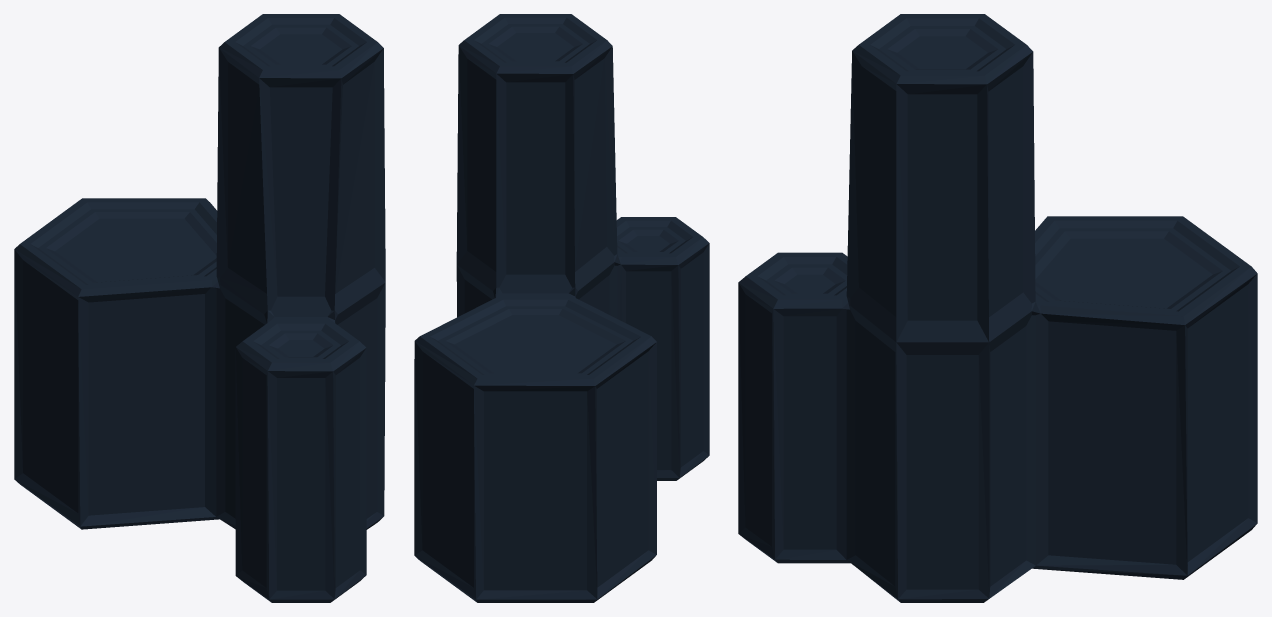
File: forest_rock_3.FBX
3 renders of one model, left to right at view 1: azimuth 30°, elevation 25°; view 2: azimuth 150°, elevation 25°; view 3: azimuth 270°, elevation 25°, orthographic. The views are drawn at different scales.
Visible parts, largest first — view 1: Cylinder; view 2: Cylinder; view 3: Cylinder.
Boxes of the visible parts, <box> form: Cylinder: <box>14,14,385,602</box>; Cylinder: <box>414,14,709,602</box>; Cylinder: <box>738,14,1257,602</box>.
Bounding box in the file's own units: 2.6 × 4.97 × 4.43.
